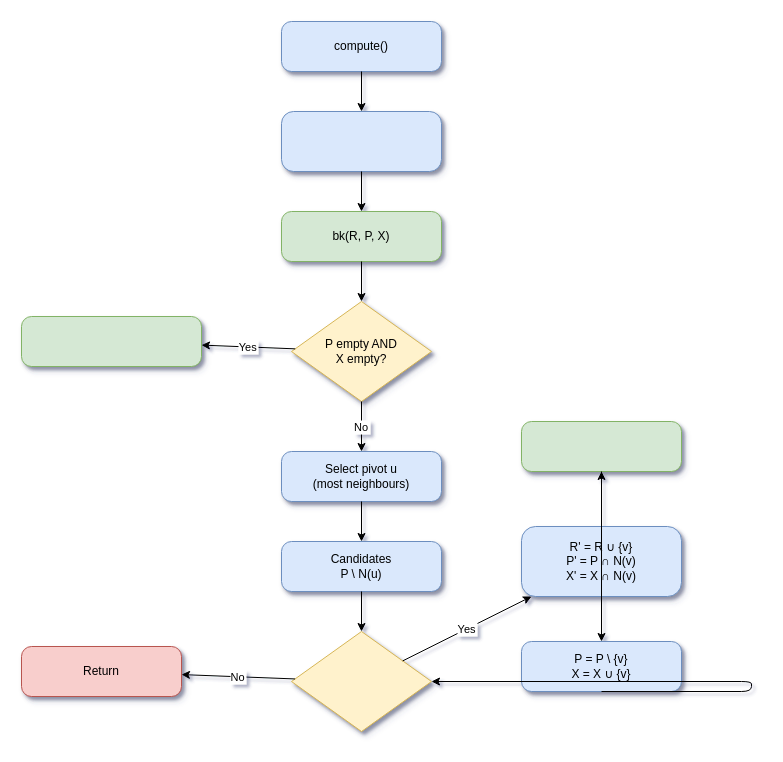
Some shapes in this 783 by 762 pixel diagram are drawn without their labels. The shapes that lost their labels are listed below. From the top down, each one's centre as x and y in pixels, then its label:
At (362,142): "Initialize P = all nodes R = ∅, X = ∅".
At (112,343): "R is a maximal clique Add to results".
At (602,447): "bk(R', P', X')".
At (362,682): "More vertices v?".
